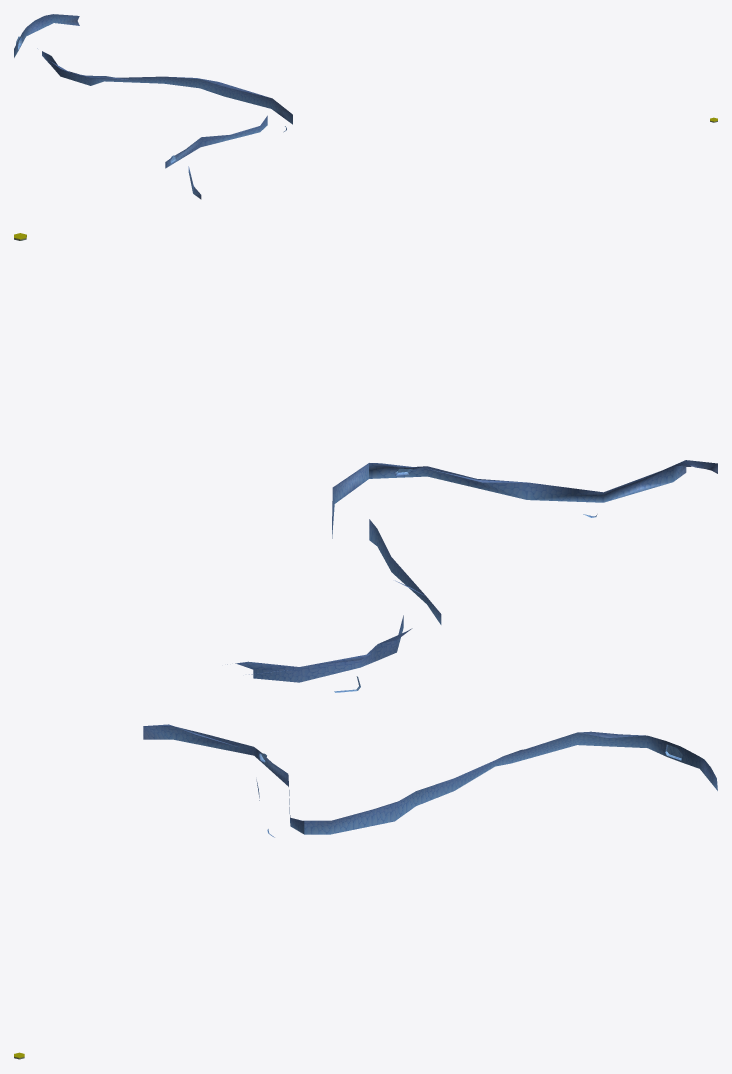
File: object_49_lev2.glb
3 views of the same model, one above another, from view 1: azimuth 30°, elevation 25°; view 2: azimuth 150°, elevation 25°; view 3: azimuth 270°, elevation 25° (orthographic). The views are drawn at different scales.
Parts seen in each view (by area): view 1: object_49_lev2; view 2: object_49_lev2; view 3: object_49_lev2.
Part boxes in pixels (x1,y1,x2,y2): object_49_lev2: (14, 14, 717, 199); object_49_lev2: (14, 233, 717, 692); object_49_lev2: (14, 724, 717, 1059).
Bounding box in the file's own units: 108 × 4.41 × 100.
Materials: 1 (1 with a texture image).
